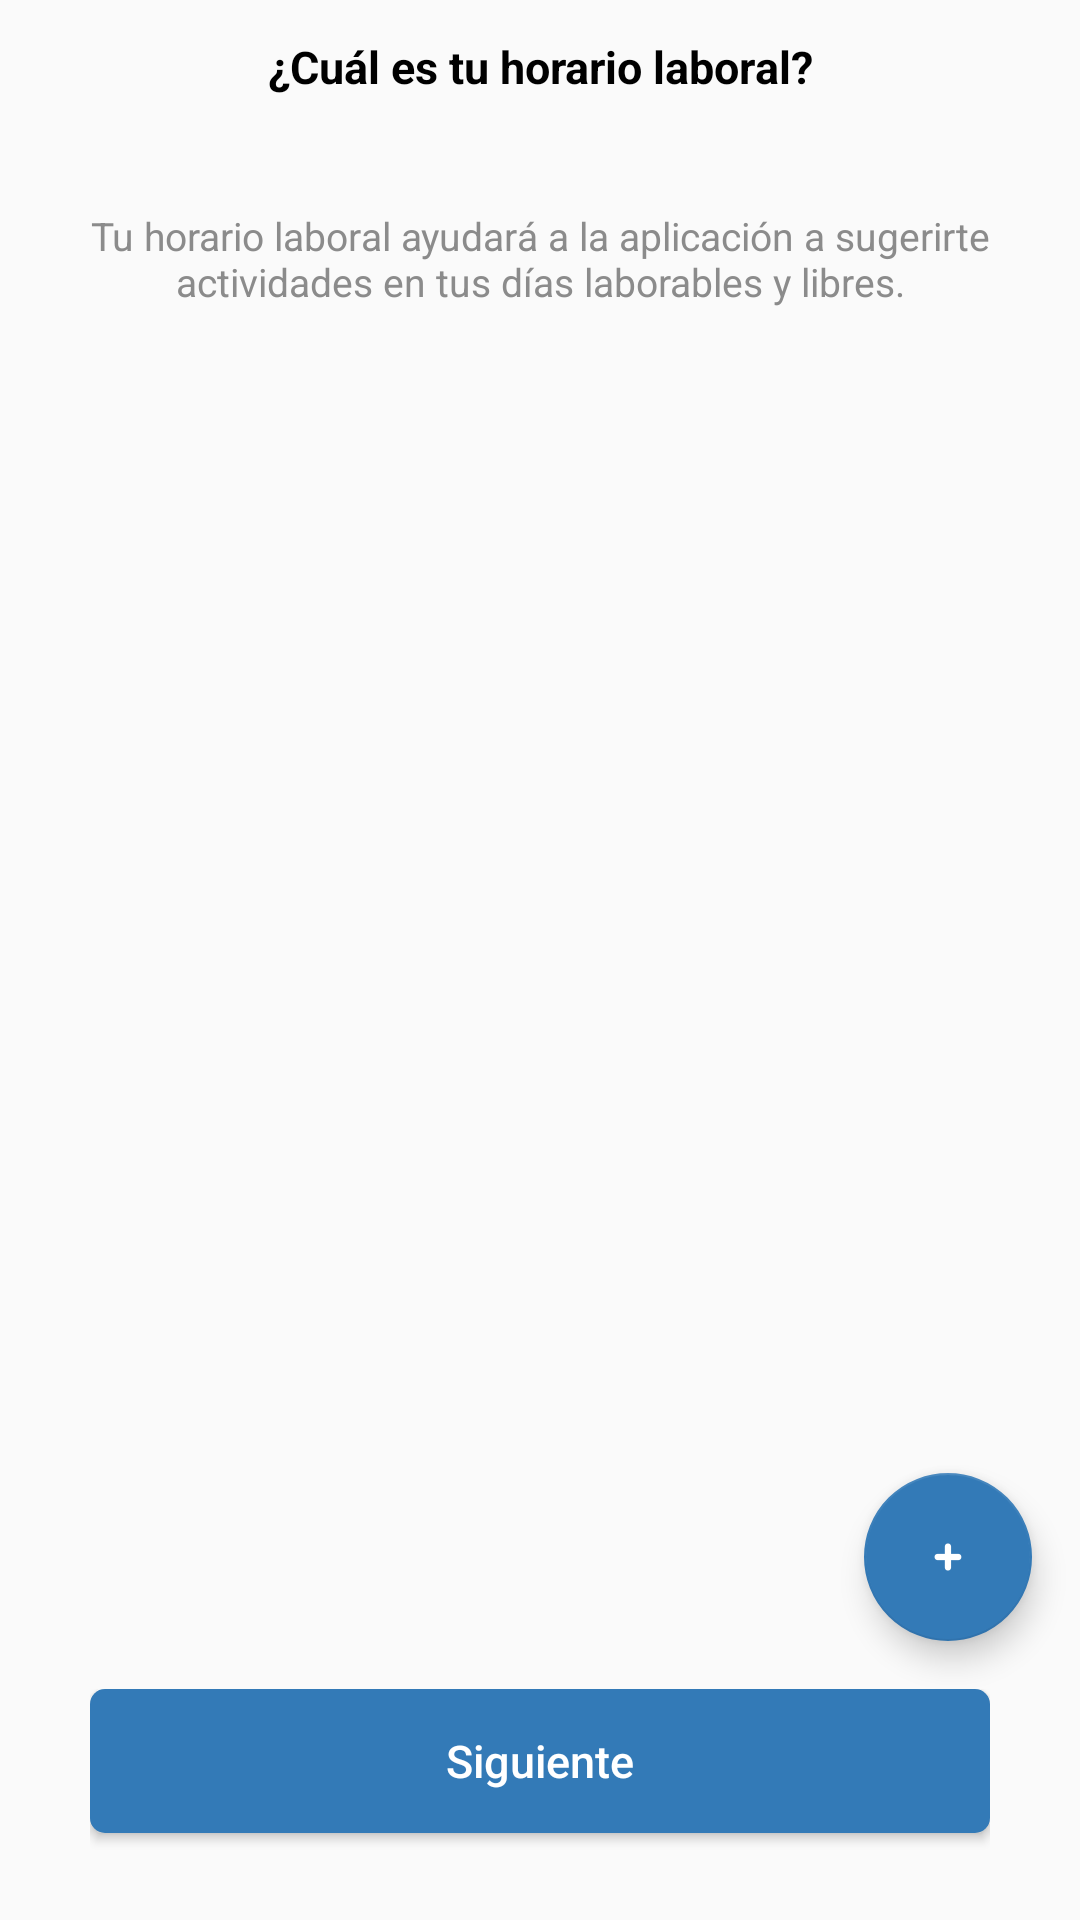

Icon bounding boxes for this 1080 x 1920 phone screenshot, format region(x1, y1, x2, y2):
add: region(864, 1473, 1032, 1641)
